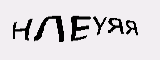Е: (66, 13, 93, 42)
Л: (33, 14, 65, 43)
Н: (8, 16, 33, 42)
Я: (106, 15, 125, 36), (124, 17, 139, 36)
Ү: (90, 13, 106, 37)
